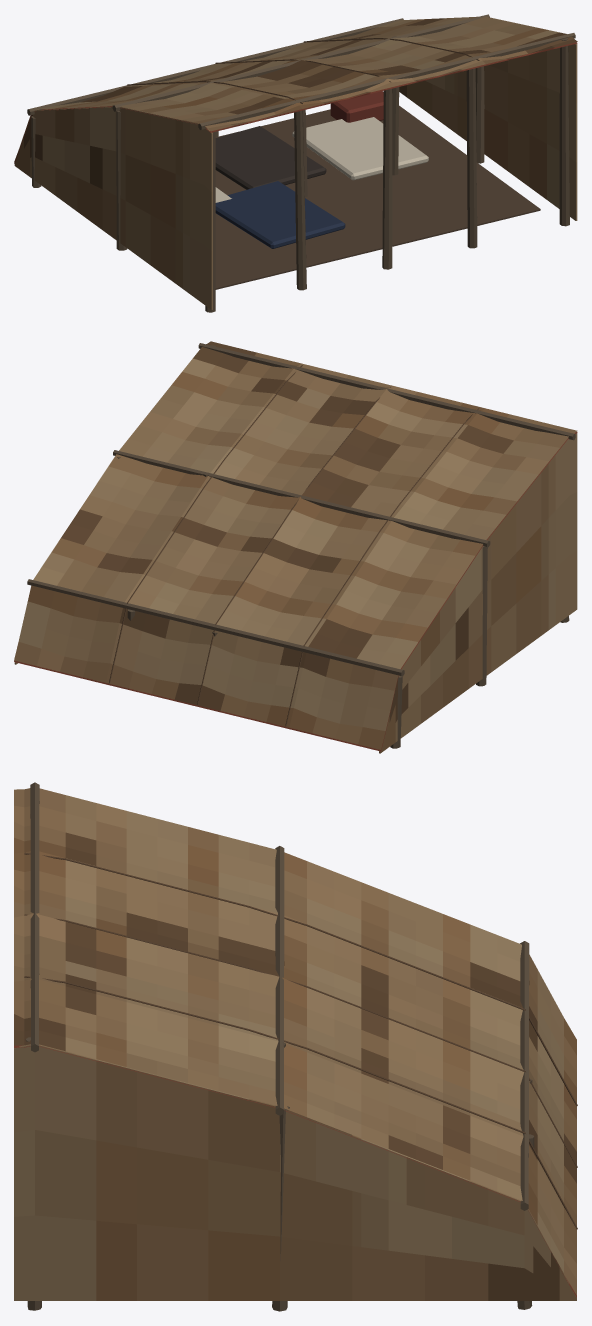
Rendered from toldo_a.glb.
3 renders of one model, top to bottom at view 1: azimuth 30°, elevation 25°; view 2: azimuth 150°, elevation 25°; view 3: azimuth 270°, elevation 25°, orthographic. The views are drawn at different scales.
Visible parts, largest first — view 1: ToldoA; view 2: ToldoA; view 3: ToldoA.
Boxes of the visible parts, bbox=[...] form: ToldoA: bbox=[14, 14, 577, 312]; ToldoA: bbox=[14, 341, 577, 753]; ToldoA: bbox=[14, 782, 577, 1311].
Size of what is drawn, in the model's own units: 5.3 by 2.57 by 4.84.
